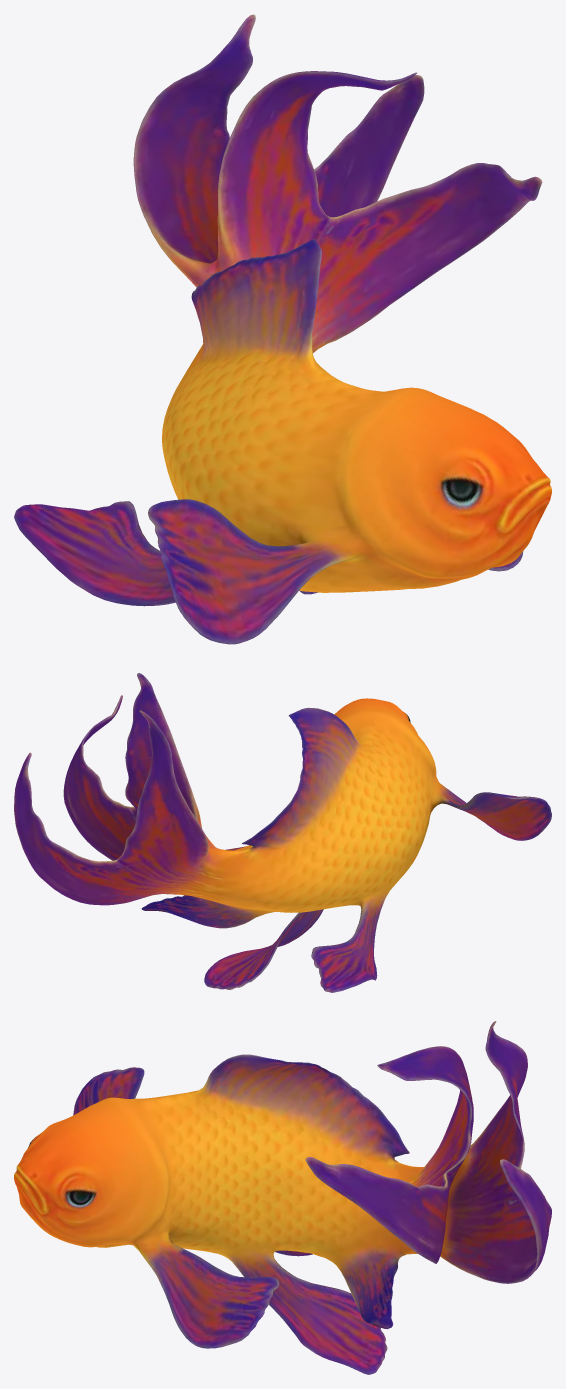
Rendered from shiny_fish.glb.
3 renders of one model, top to bottom at view 1: azimuth 30°, elevation 25°; view 2: azimuth 150°, elevation 25°; view 3: azimuth 270°, elevation 25°, orthographic. The views are drawn at different scales.
Parts seen in each view (by area): view 1: G_Fish67_G_Fish_tex_0; view 2: G_Fish67_G_Fish_tex_0; view 3: G_Fish67_G_Fish_tex_0.
Part boxes in pixels (x1=…): G_Fish67_G_Fish_tex_0: x1=14, y1=14, x2=551, y2=644; G_Fish67_G_Fish_tex_0: x1=14, y1=673, x2=551, y2=992; G_Fish67_G_Fish_tex_0: x1=14, y1=1021, x2=551, y2=1374.
Size of the model in its own units: 6.41 by 5.43 by 7.36.
Materials: 1 (1 with a texture image).
